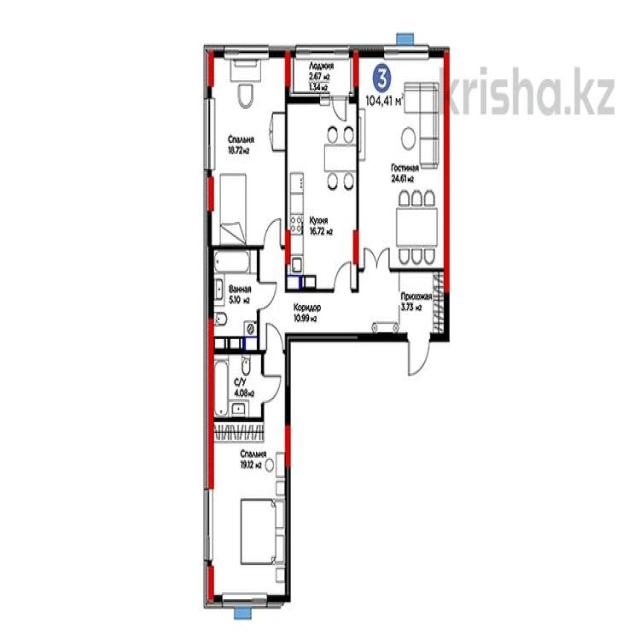balcony: (290, 51, 355, 96)
bathroom: (208, 251, 260, 350), (208, 353, 262, 425)
hallway: (359, 276, 447, 332), (286, 288, 358, 333)
kitchen: (289, 100, 355, 284)
living_room: (357, 54, 446, 270), (208, 51, 286, 251), (214, 422, 286, 596)
